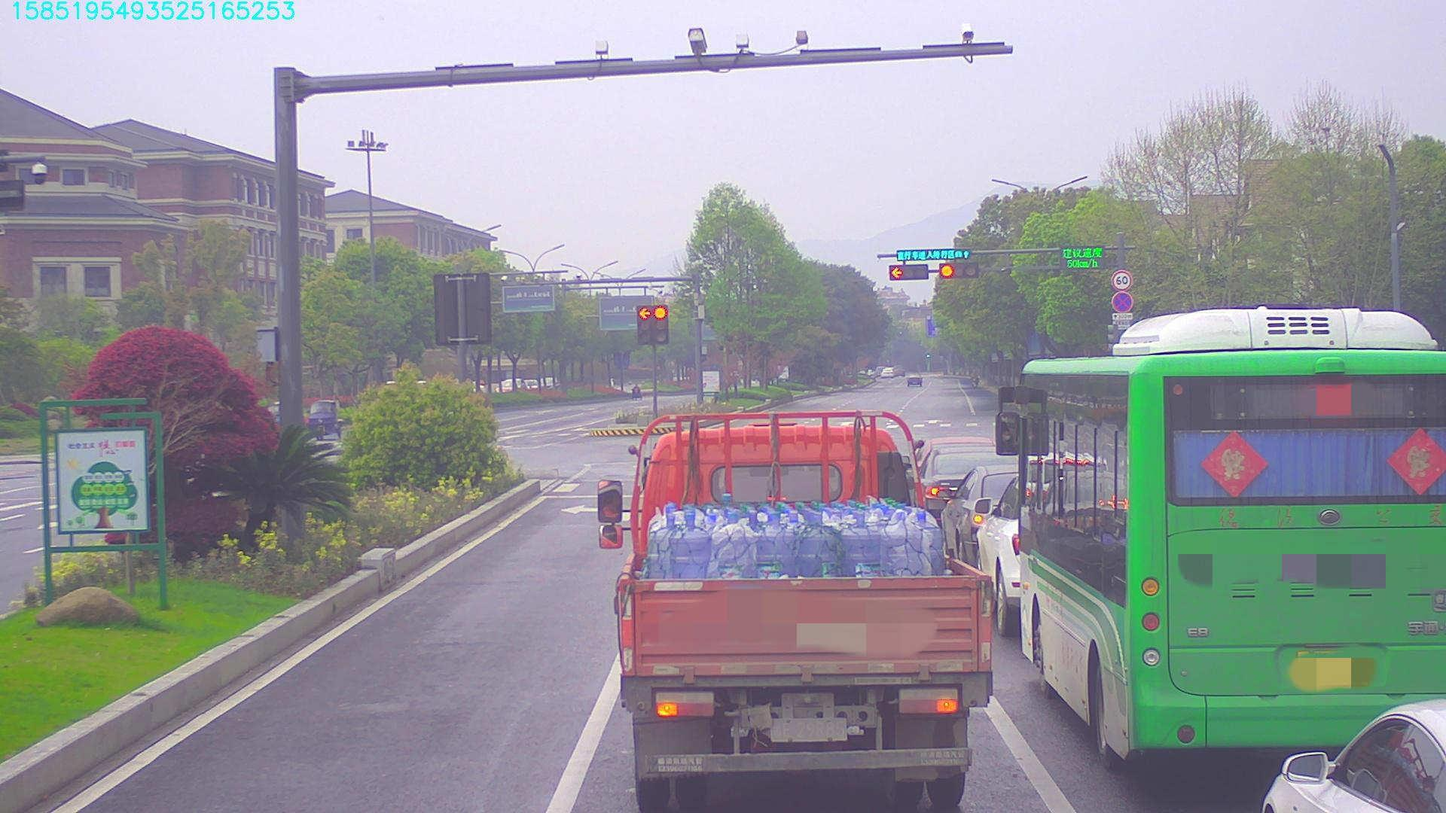red: (886, 266, 924, 280), (939, 261, 969, 276)
wait_on: (895, 248, 968, 257)
